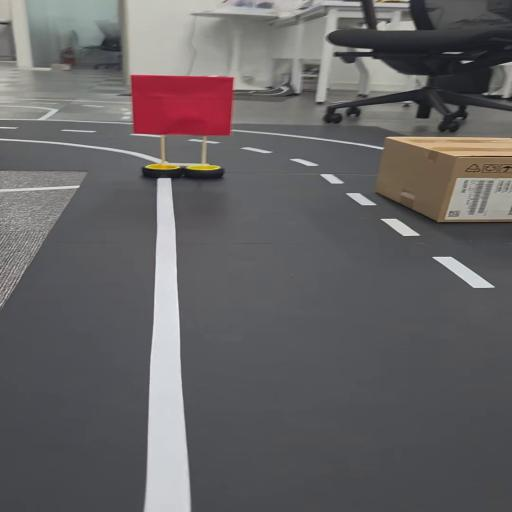Box: (374, 136, 512, 229)
Sign_A: (123, 74, 242, 184)
